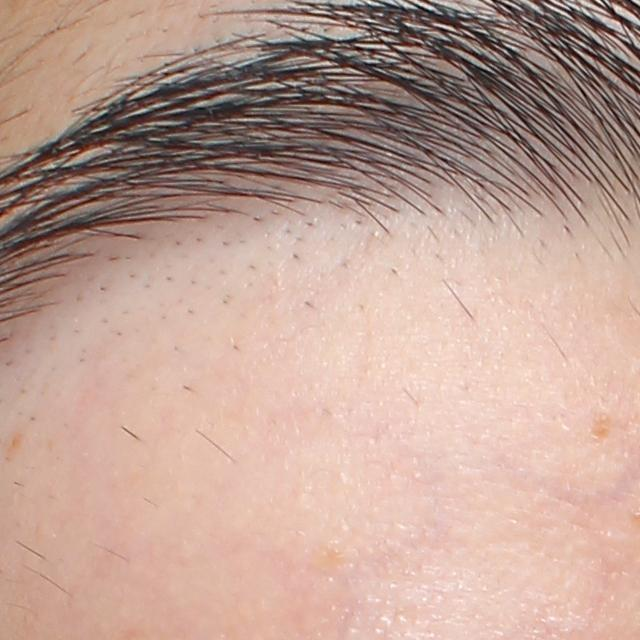melasma: (581, 414, 614, 449)
